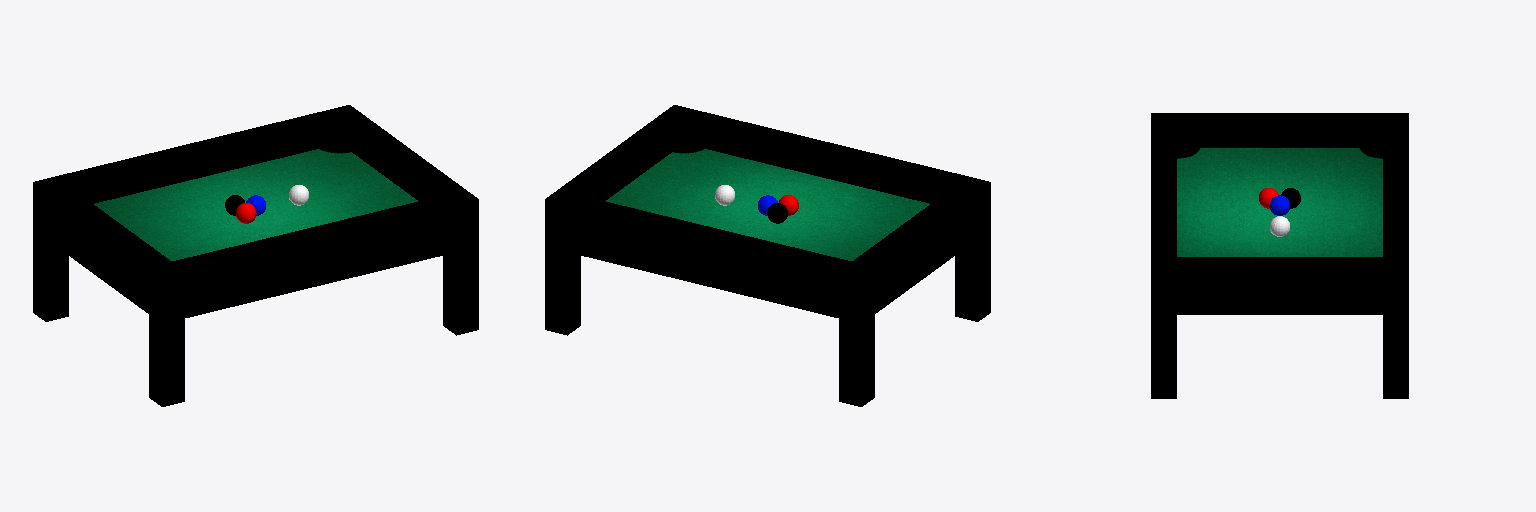
3 renders of one model, left to right at view 1: azimuth 30°, elevation 25°; view 2: azimuth 150°, elevation 25°; view 3: azimuth 270°, elevation 25°, orthographic.
Visible parts, largest first — view 1: pCube4, pCube1, pCube5, pCube3, pCube2, pCube7, pCube8, pCube9; view 2: pCube5, pCube1, pCube4, pCube3, pCube2, pCube9, pCube6, pCube7; view 3: pCube1, pCube2, pCube3, pCube4, pCube5, pCube6, pCube8.
Part boxes in pixels (x1,y1,x2,y2): pCube4: (149,190,478,323); pCube1: (94,144,417,260); pCube5: (33,105,361,238); pCube3: (45,186,171,313); pCube2: (340,114,465,200); pCube7: (149,315,184,406); pCube8: (443,247,478,335); pCube9: (33,230,68,321); pCube5: (545,190,874,323); pCube1: (606,144,929,260); pCube4: (662,105,990,237); pCube3: (852,186,978,313); pCube2: (558,114,683,200); pCube9: (839,315,874,406); pCube6: (545,247,580,335); pCube7: (955,230,990,321); pCube1: (1177,148,1382,256); pCube2: (1175,257,1384,314); pCube3: (1175,113,1384,147); pCube4: (1151,113,1176,314); pCube5: (1383,113,1408,314); pCube6: (1383,315,1408,398); pCube8: (1151,315,1176,398).
Size of the model in its own units: 0.875 by 0.3445 by 0.619.
Materials: 13 (5 with a texture image).